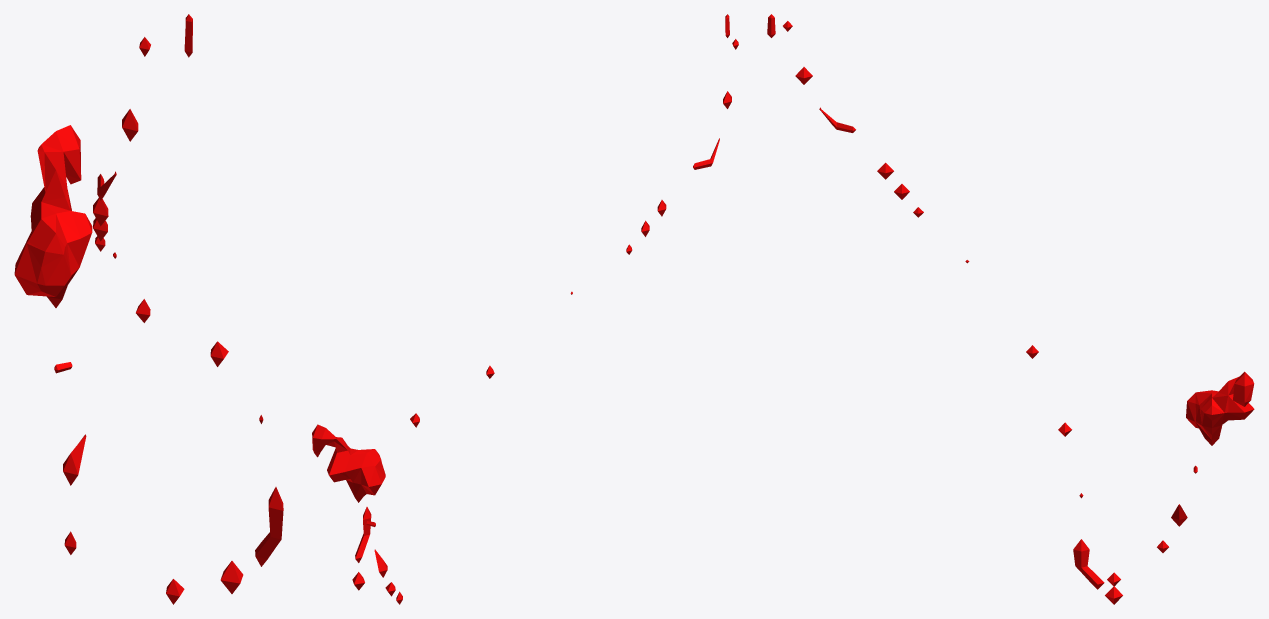
File: hyfR_coarse.dae
3 views of the same model, side by side, from view 1: azimuth 30°, elevation 25°; view 2: azimuth 150°, elevation 25°; view 3: azimuth 270°, elevation 25° (orthographic). The views are drawn at different scales.
Parts seen in each view (by area): view 1: hyfR; view 2: hyfR; view 3: hyfR.
Part boxes in pixels (x1,y1,x2,y2): hyfR: (14,14,283,604); hyfR: (312,14,738,604); hyfR: (767,14,1254,604).
Size of the model in its own units: 271 by 562 by 501.
